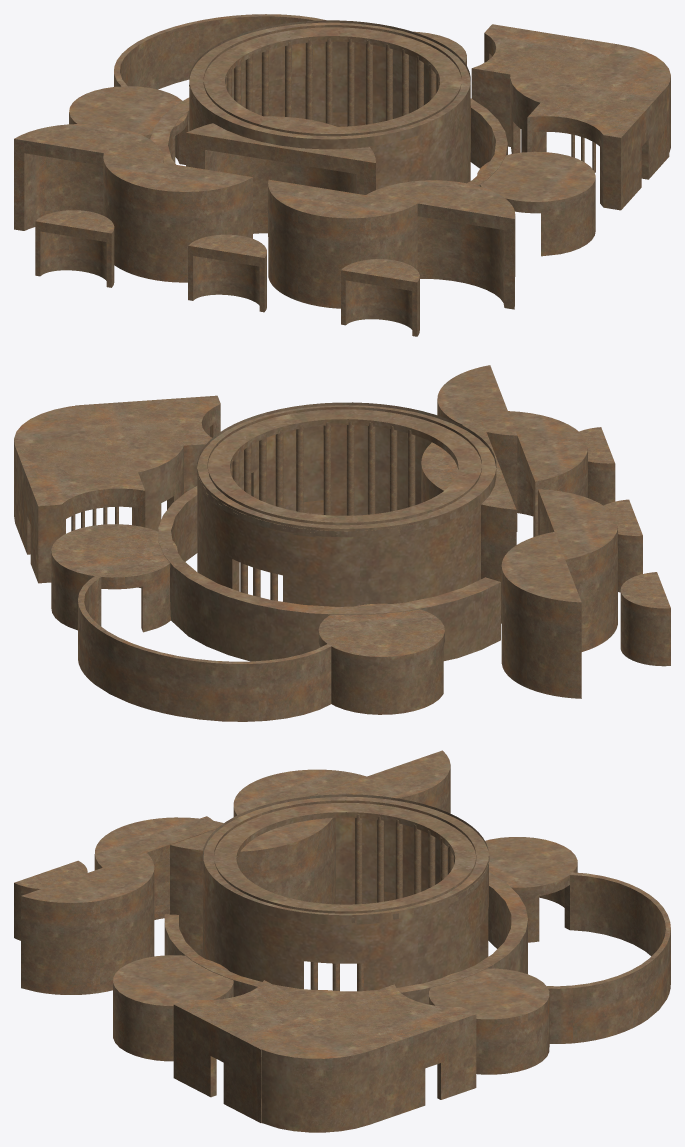
Rendered from 3dmodel.gltf.
3 views of the same model, one above another, from view 1: azimuth 30°, elevation 25°; view 2: azimuth 150°, elevation 25°; view 3: azimuth 270°, elevation 25° (orthographic). The views are drawn at different scales.
Visible parts, largest first — view 1: 3dmodel; view 2: 3dmodel; view 3: 3dmodel.
Part boxes in pixels (<box>): 3dmodel: <box>14,14,670,336</box>; 3dmodel: <box>14,365,670,721</box>; 3dmodel: <box>14,750,670,1132</box>.
Bounding box in the file's own units: 0.3376 × 0.0623 × 0.3069.
Materials: 1 (1 with a texture image).
